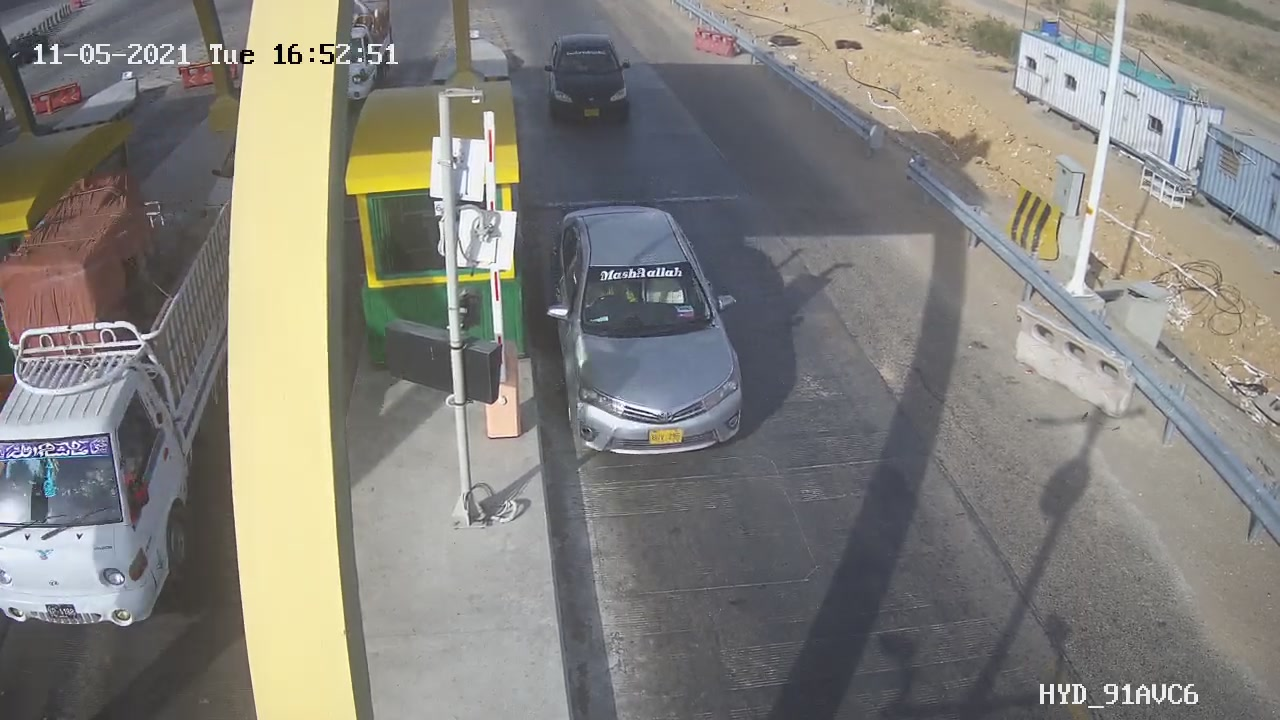F1: (533, 191, 765, 482), (530, 21, 661, 142)
